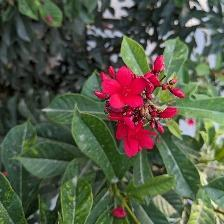jatropha: (104, 68, 148, 111)
